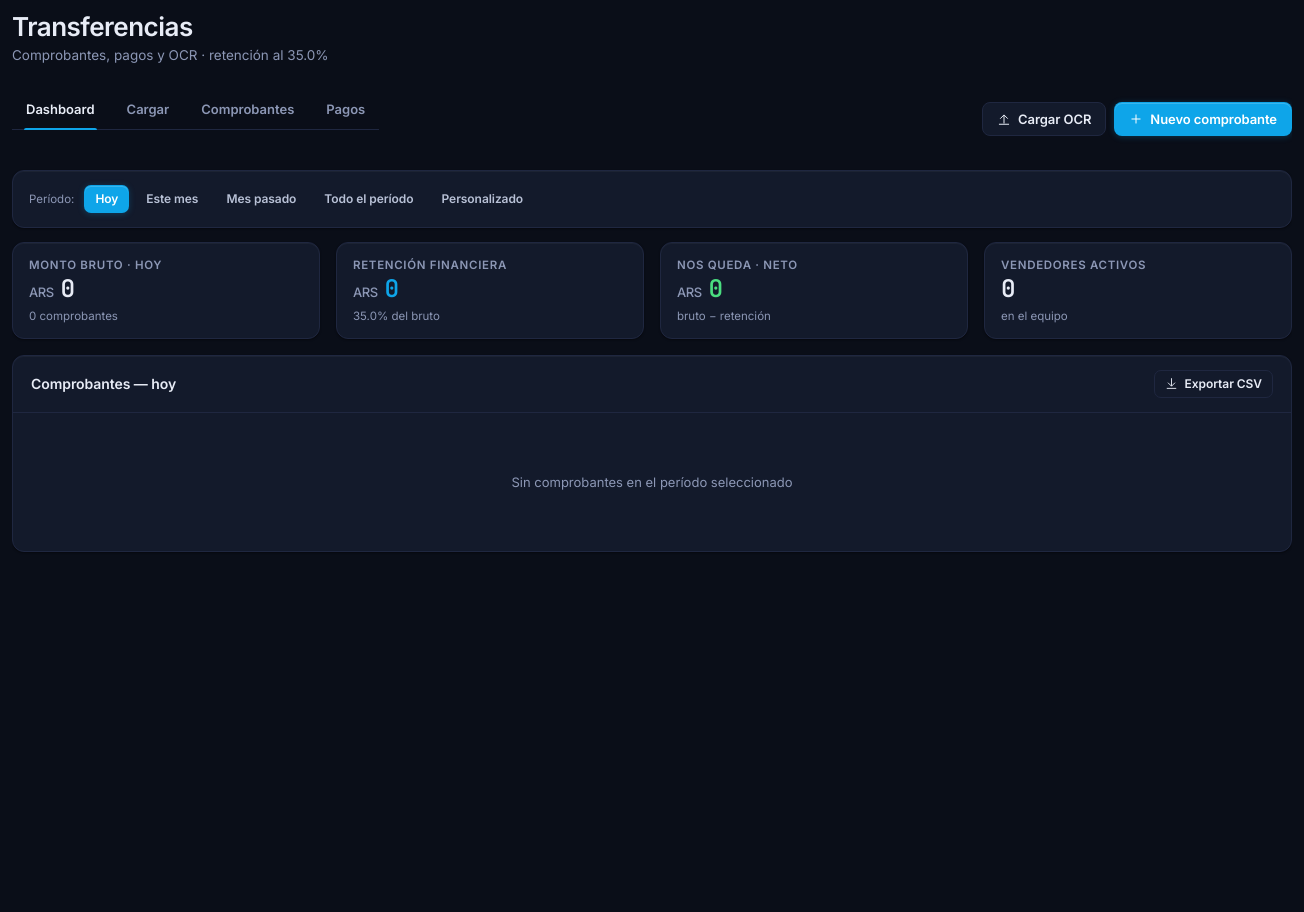
Financiera — form Pagos (TANDAs 1-3 sprint USD) › U2: el form está envuelto en <form> — submit semántico (Enter funciona)
Step 1. Click the button "Pagos" → (346, 109), box [312, 89, 379, 129]
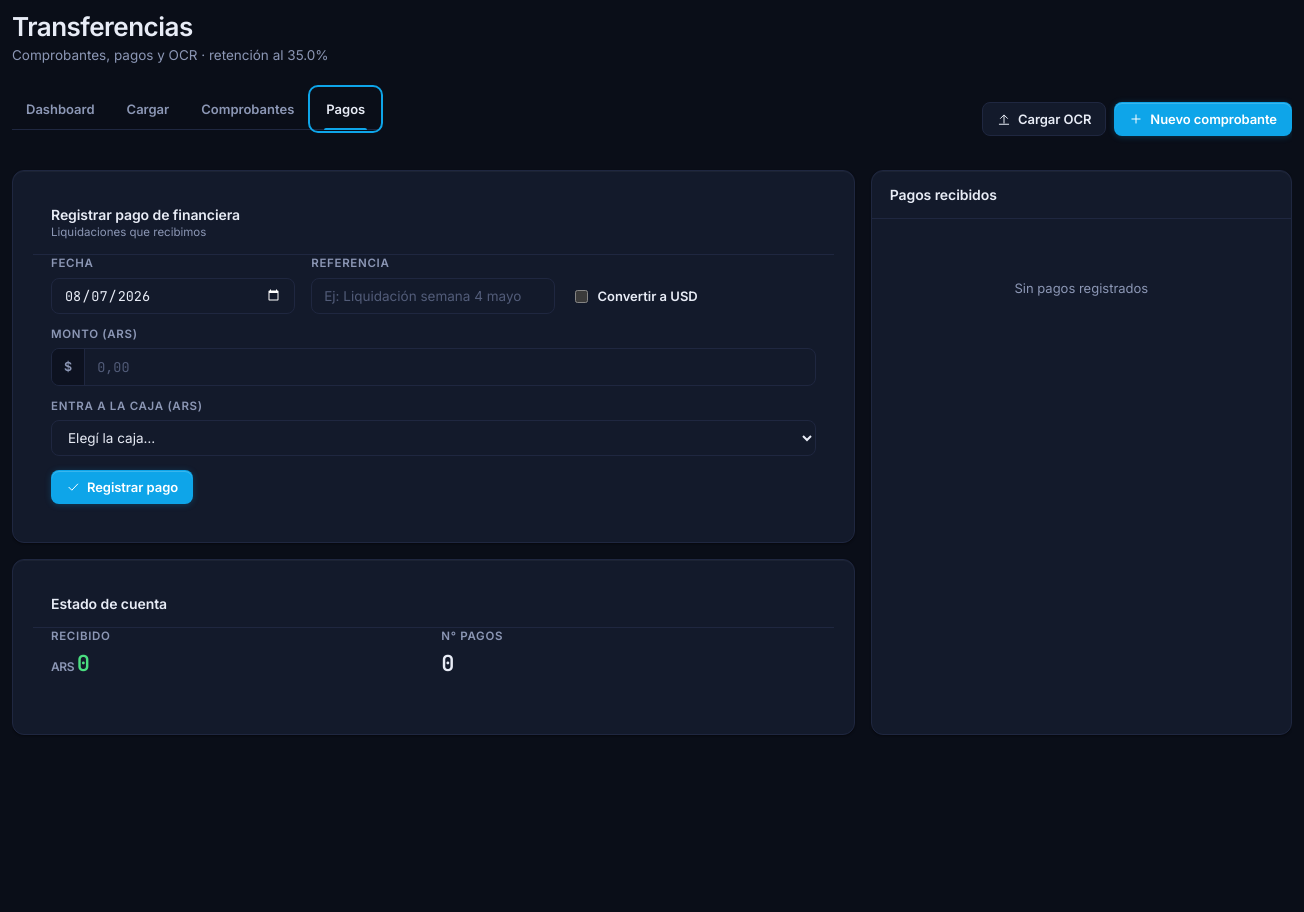
Now the heading "Registrar pago de financiera" is shown, box [51, 205, 240, 224]
Now the form named "Registrar pago" is shown, box [33, 256, 834, 522]
